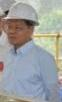hard-hat: (3, 1, 39, 25)
